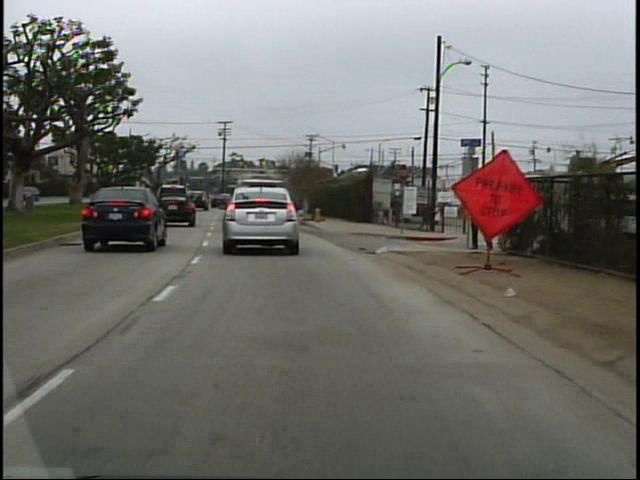person: (463, 182, 499, 255)
